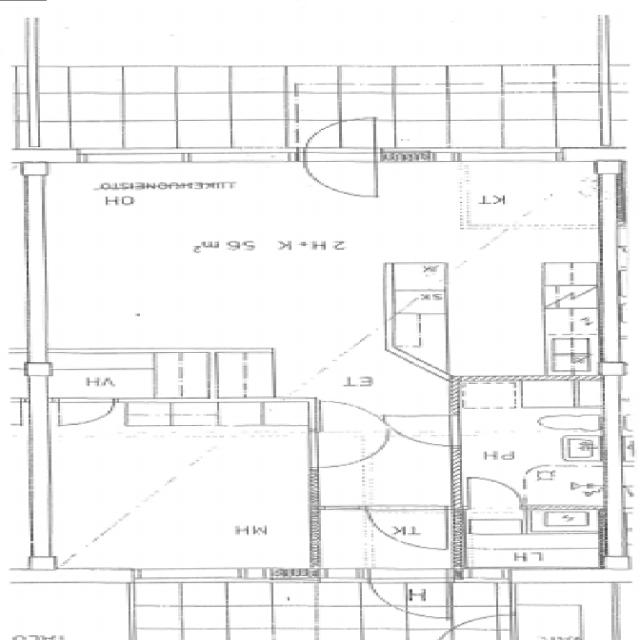door: (370, 569, 448, 621), (304, 148, 374, 197), (304, 114, 374, 162), (368, 506, 444, 550), (311, 433, 388, 467), (388, 415, 459, 445), (437, 615, 518, 640), (59, 397, 112, 428), (468, 480, 520, 510)
